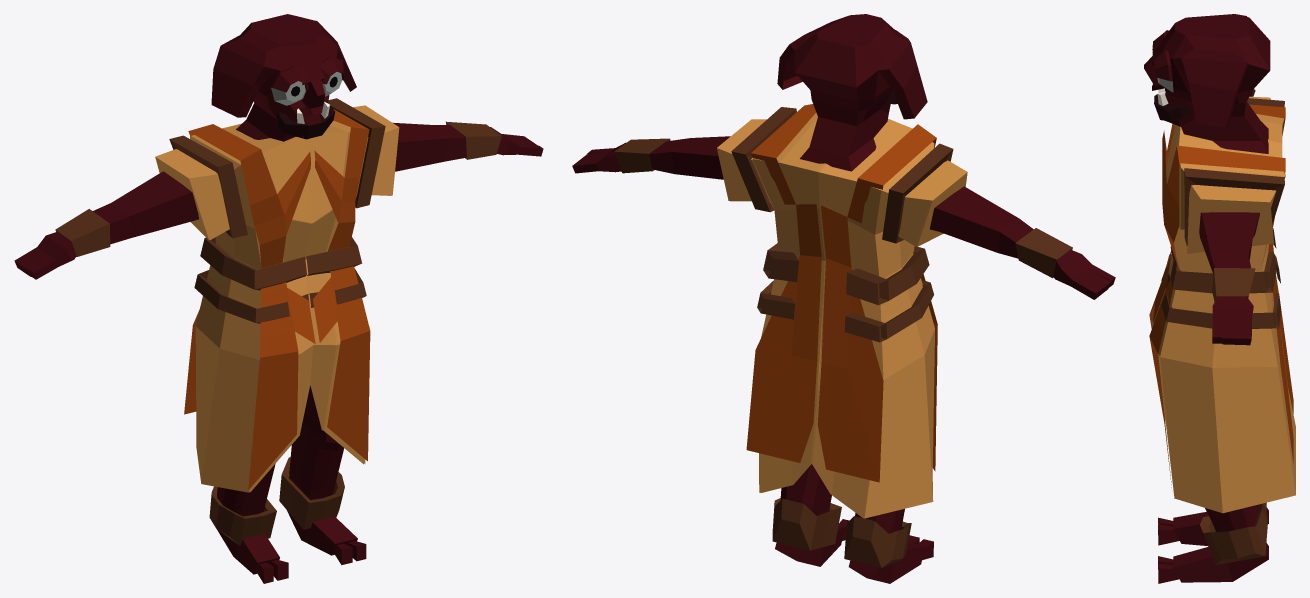
The model's file is RED_VERSION_CHARACTER.fbx.
The picture shows the model from 3 angles, left to right: view 1: azimuth 30°, elevation 25°; view 2: azimuth 150°, elevation 25°; view 3: azimuth 270°, elevation 25°; orthographic projection. The views are drawn at different scales.
Parts seen in each view (by area): view 1: Cube.027; view 2: Cube.027; view 3: Cube.027.
Part boxes in pixels (x1,y1,x2,y2): Cube.027: (14,14,543,583); Cube.027: (572,14,1115,583); Cube.027: (1144,14,1295,583).
Bounding box in the file's own units: 758 × 740 × 192.
